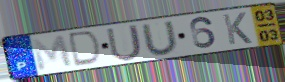6: (189, 15, 219, 51)
D: (68, 30, 104, 69)
K: (220, 11, 254, 47)
M: (30, 34, 76, 73)
U: (104, 22, 144, 62), (139, 19, 181, 56)
